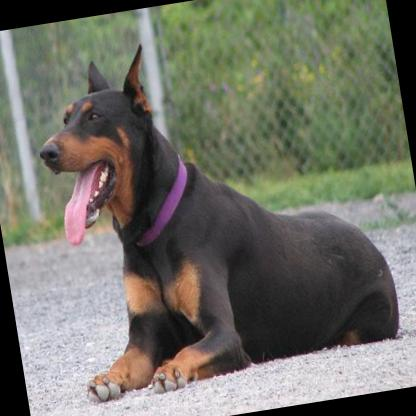Doberman: (21, 10, 402, 406)
